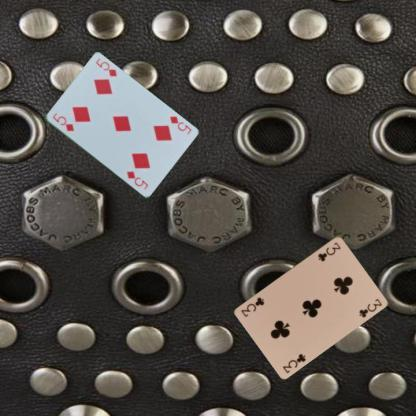3c: (280, 351, 307, 374), (315, 240, 342, 262)
5d: (167, 113, 192, 136), (50, 110, 76, 132)
